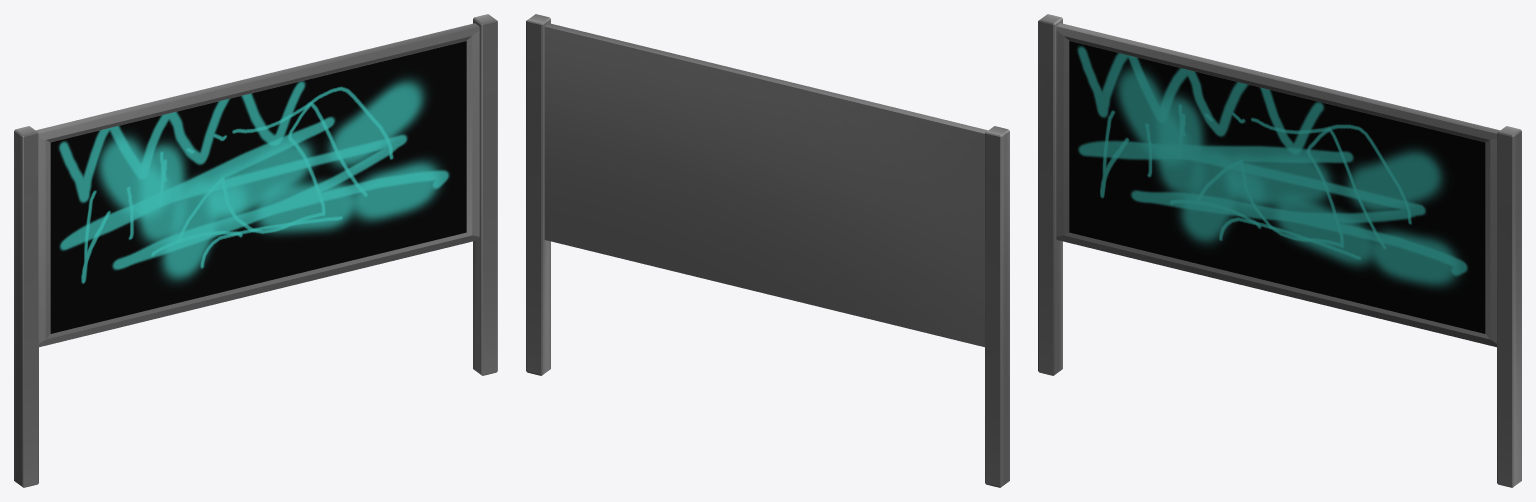
File: billboard.fbx
3 views of the same model, side by side, from view 1: azimuth 30°, elevation 25°; view 2: azimuth 150°, elevation 25°; view 3: azimuth 330°, elevation 25° (orthographic).
Parts seen in each view (by area): view 1: Picture, Frame; view 2: Frame; view 3: Picture, Frame.
Boxes of the visible parts, box(x1,y1,x2,y2) form: Picture: box(50, 41, 466, 333); Frame: box(14, 14, 497, 487); Frame: box(526, 14, 1009, 487); Picture: box(1069, 41, 1485, 333); Frame: box(1038, 14, 1521, 487).
Bounding box in the file's own units: 282 × 200 × 9.15.
2 materials, 2 textured.
